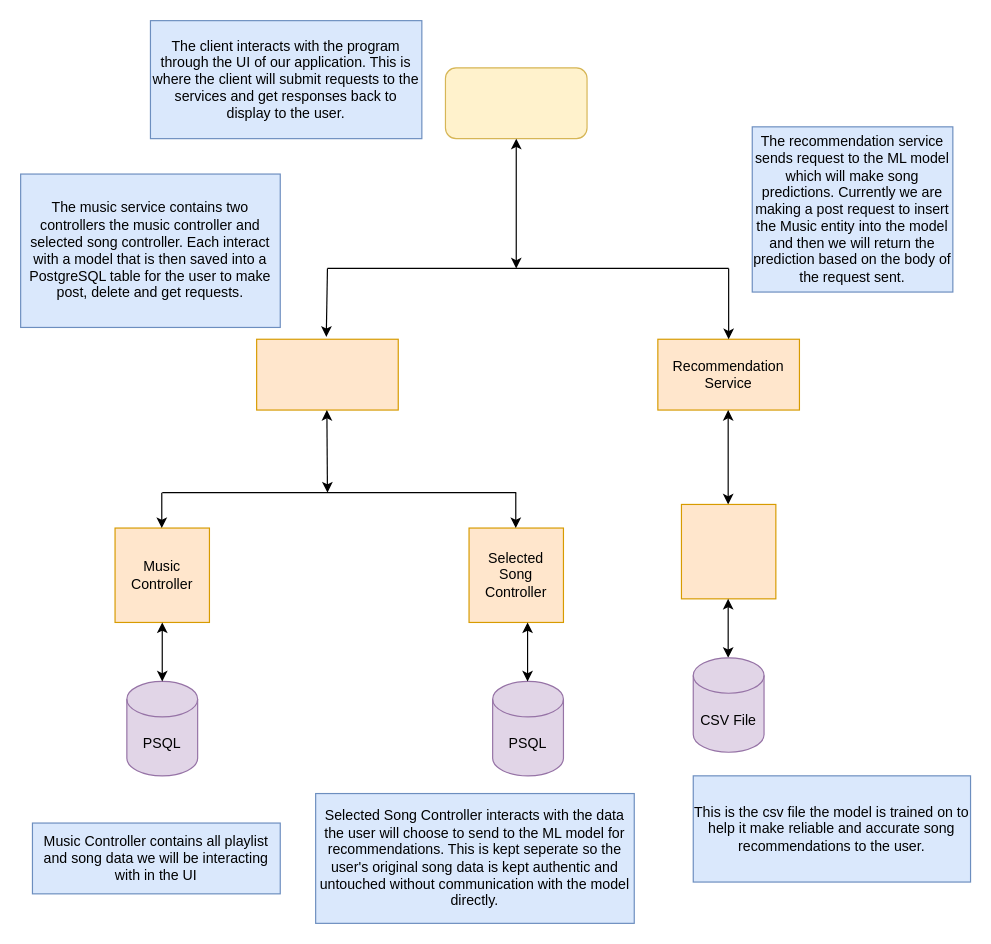
Image size: 991x944. Some labels were removed from this diagram. The centre of each missing label's shape, as x and y in pixels:
"ML Model" goes at [728,551].
"Music Service" goes at [326,374].
"Tune Tip UI (Client)" goes at [515,103].
